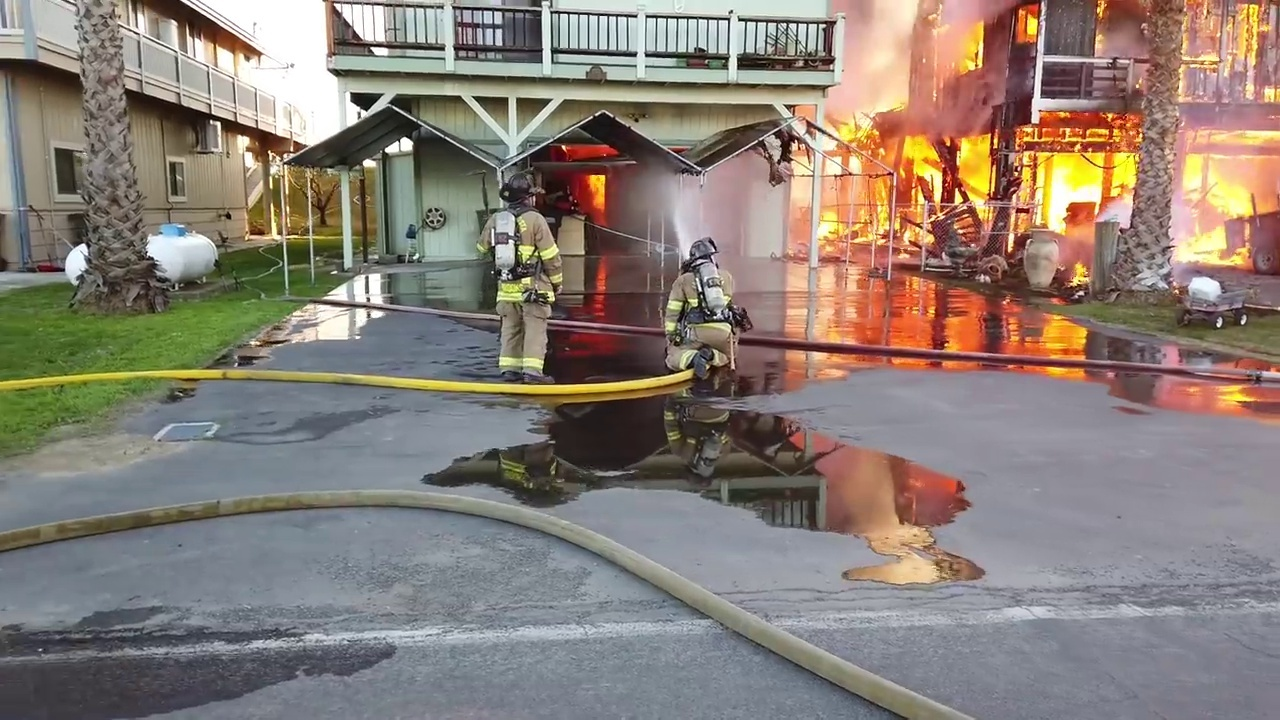fire: (801, 133, 1256, 284), (1190, 1, 1257, 101), (829, 100, 904, 141), (951, 7, 991, 76), (1086, 1, 1111, 56), (1012, 2, 1044, 44), (581, 170, 610, 215), (559, 142, 616, 158), (1261, 82, 1280, 106)
smoke: (808, 1, 935, 130)
